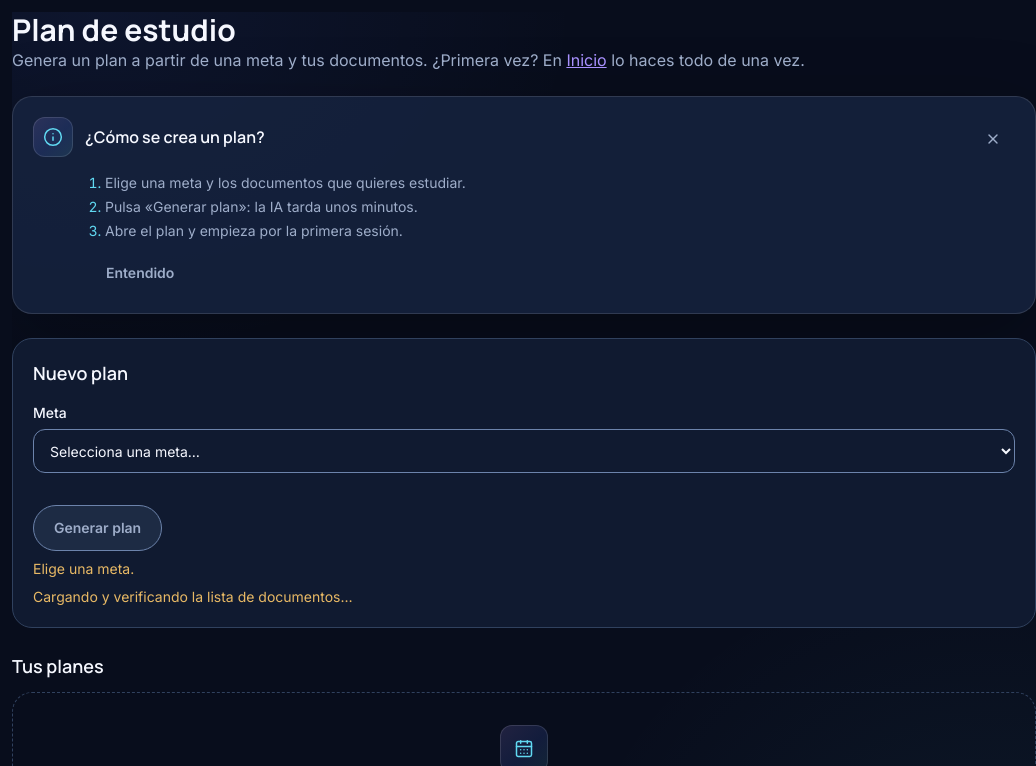
Test case: PlanPage generation › blocks plan generation when the document list cannot be read
The width and height of the screenshot is (1036, 766).
Select "Aprender biología" in the dropdown at (524, 451), box [33,429,1015,473]
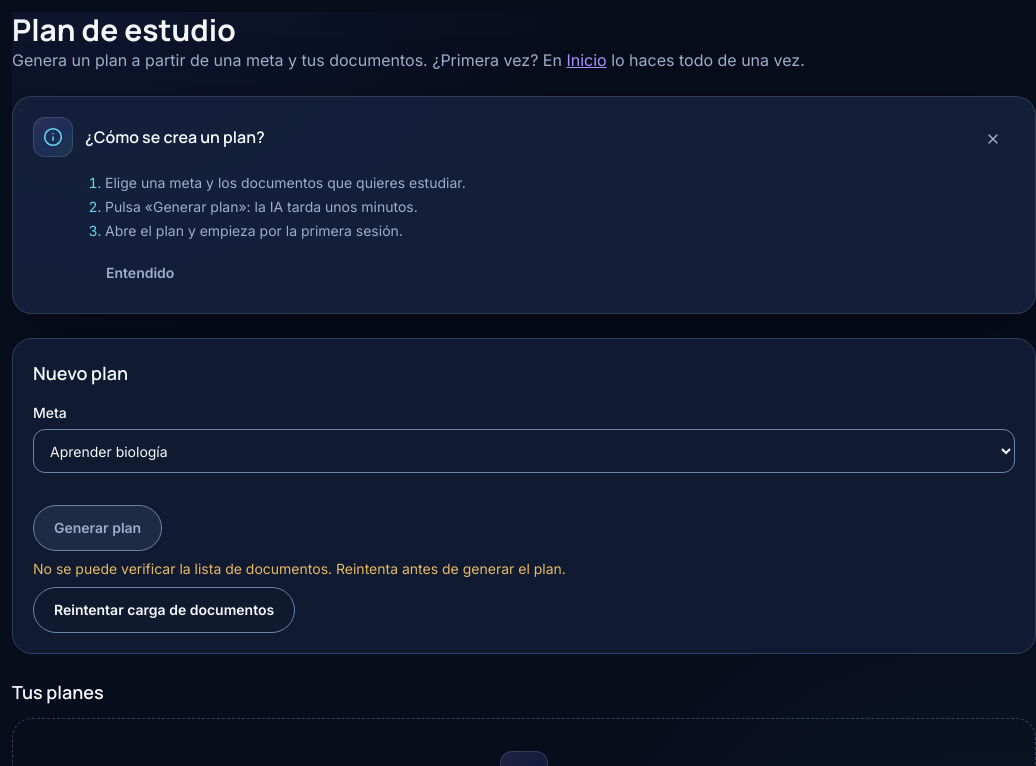
Expected: the button "Generar plan" is disabled, [33,505,162,551]
Result: the text "No se puede verificar la lista de documentos" is shown at [33,560,566,577]
